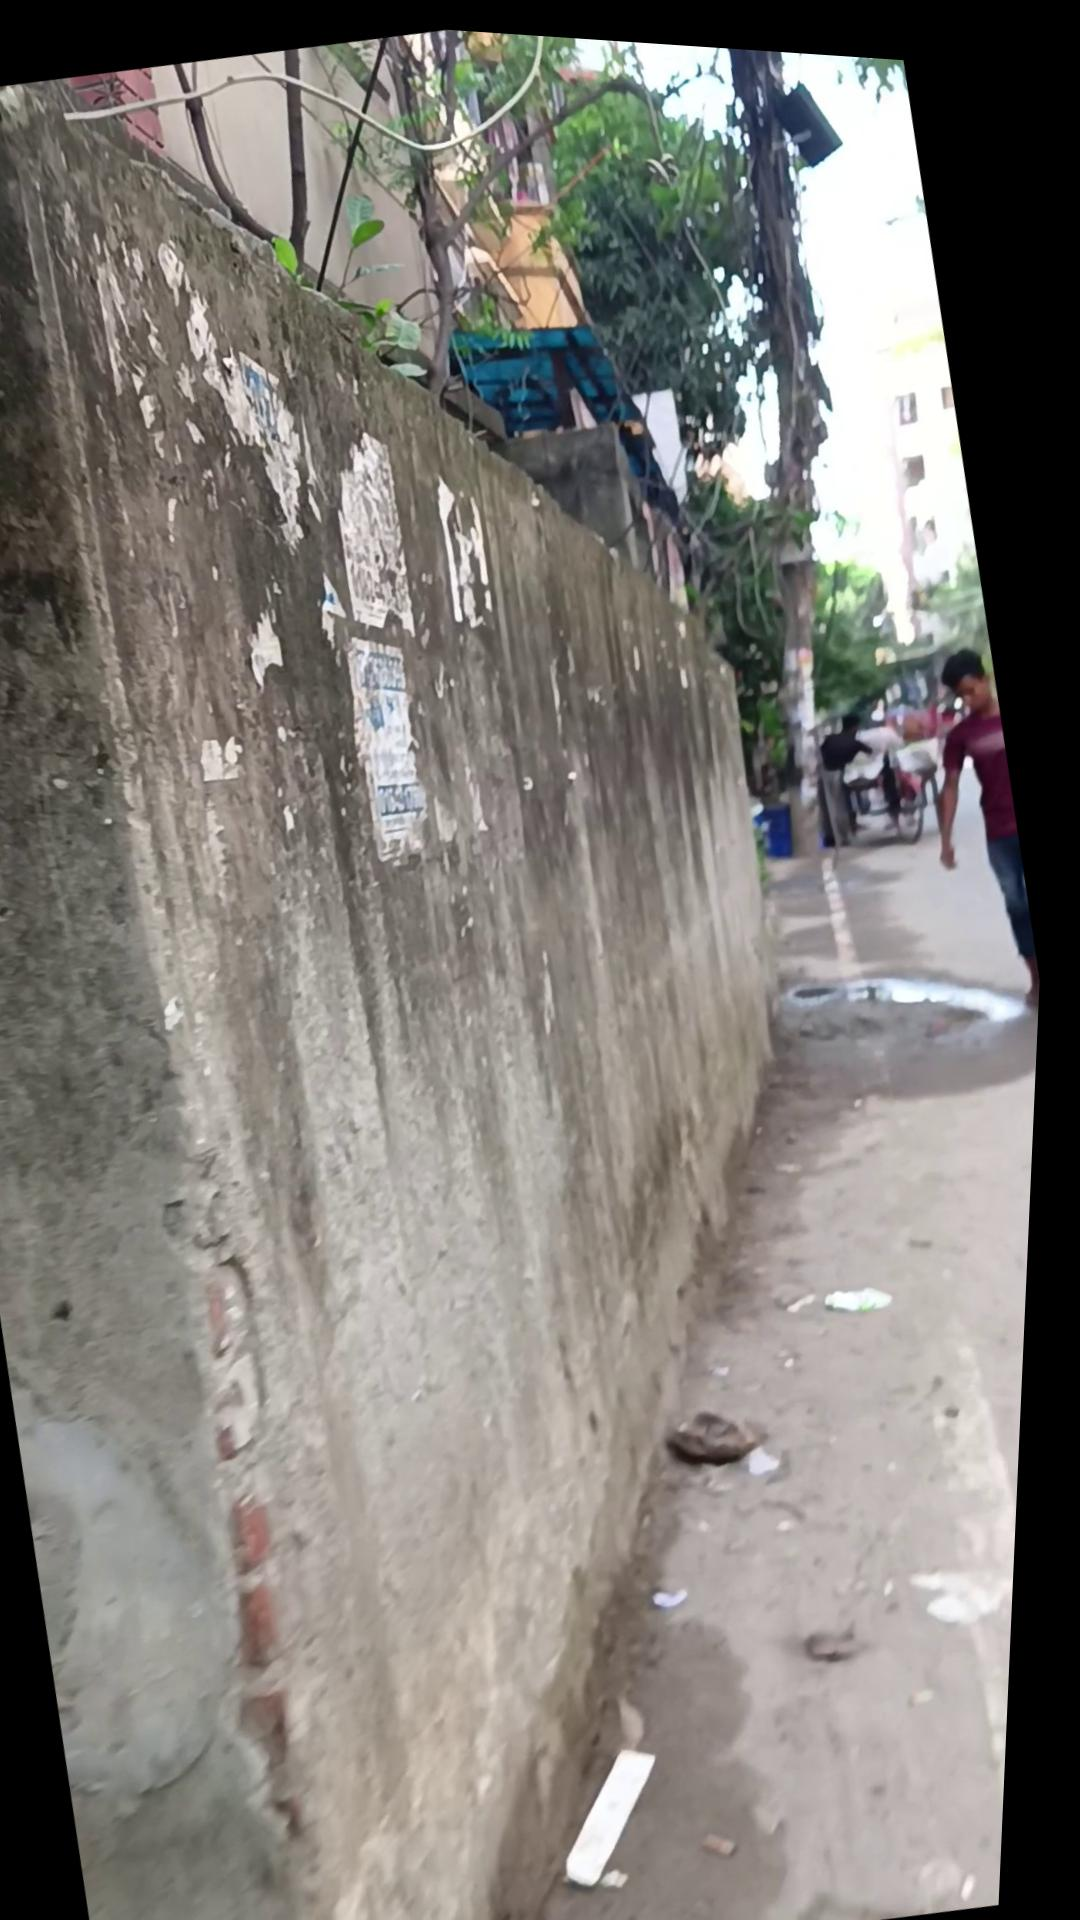Cat: (760, 787, 806, 851)
Curb: (901, 625, 1060, 1010)
Dog: (628, 34, 980, 853)
Garbage: (309, 729, 1055, 1920)
Obstacle: (0, 0, 996, 1920)
